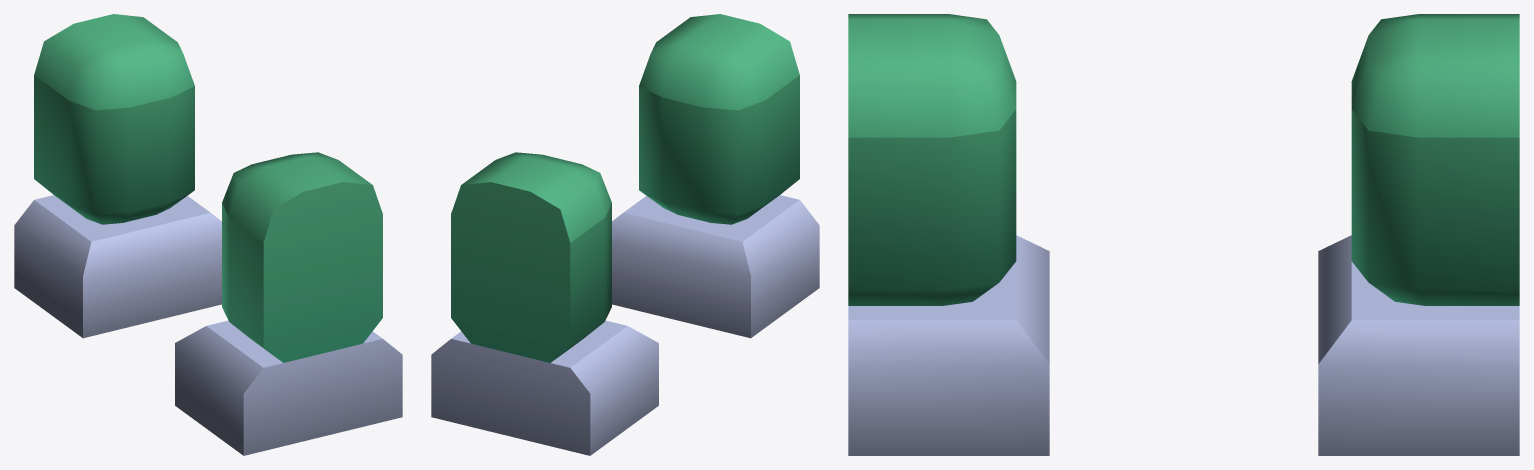
File: kenney-fantasy-town-hedge-large-gate.glb
3 views of the same model, side by side, from view 1: azimuth 30°, elevation 25°; view 2: azimuth 150°, elevation 25°; view 3: azimuth 270°, elevation 25° (orthographic). The views are drawn at different scales.
Visible parts, largest first — view 1: hedge-large-gate; view 2: hedge-large-gate; view 3: hedge-large-gate.
Part boxes in pixels (<box>): hedge-large-gate: <box>14,14,402,455</box>; hedge-large-gate: <box>431,14,819,455</box>; hedge-large-gate: <box>848,14,1519,455</box>.
Bounding box in the file's own units: 0.3999 × 0.6001 × 1.
1 material, 1 textured.
